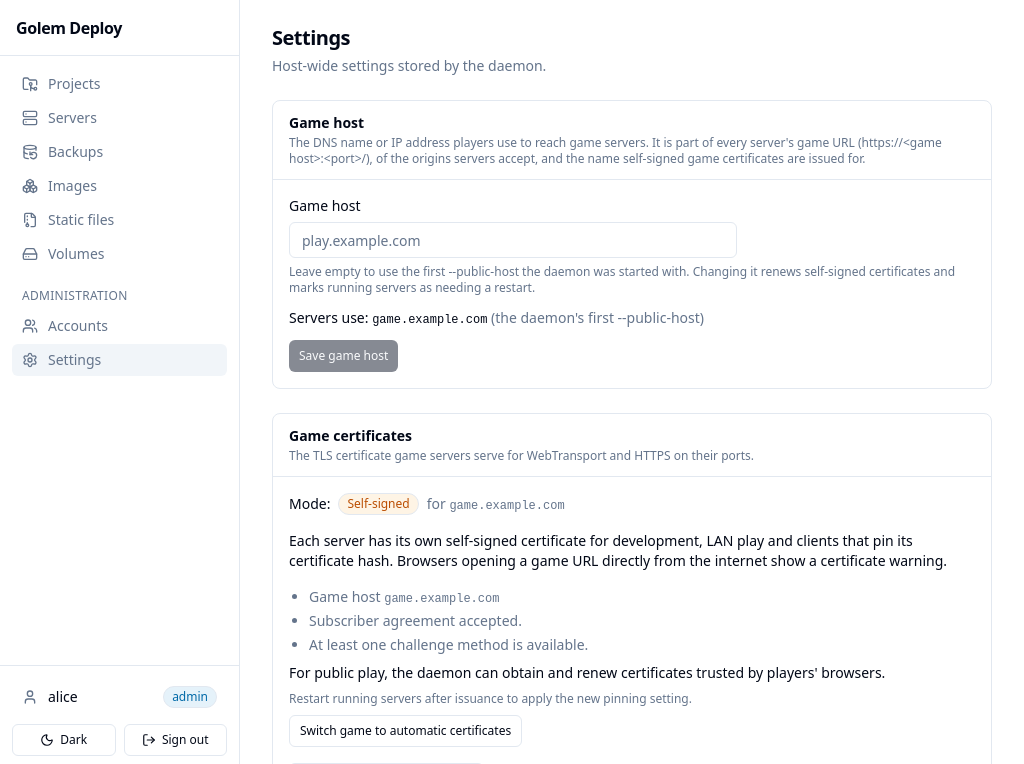
Test: automatic game certificates › follows the 202 response through success
Click the button "Switch game to automatic certificates".
click(406, 731)  # box 289,715 -> 522,747
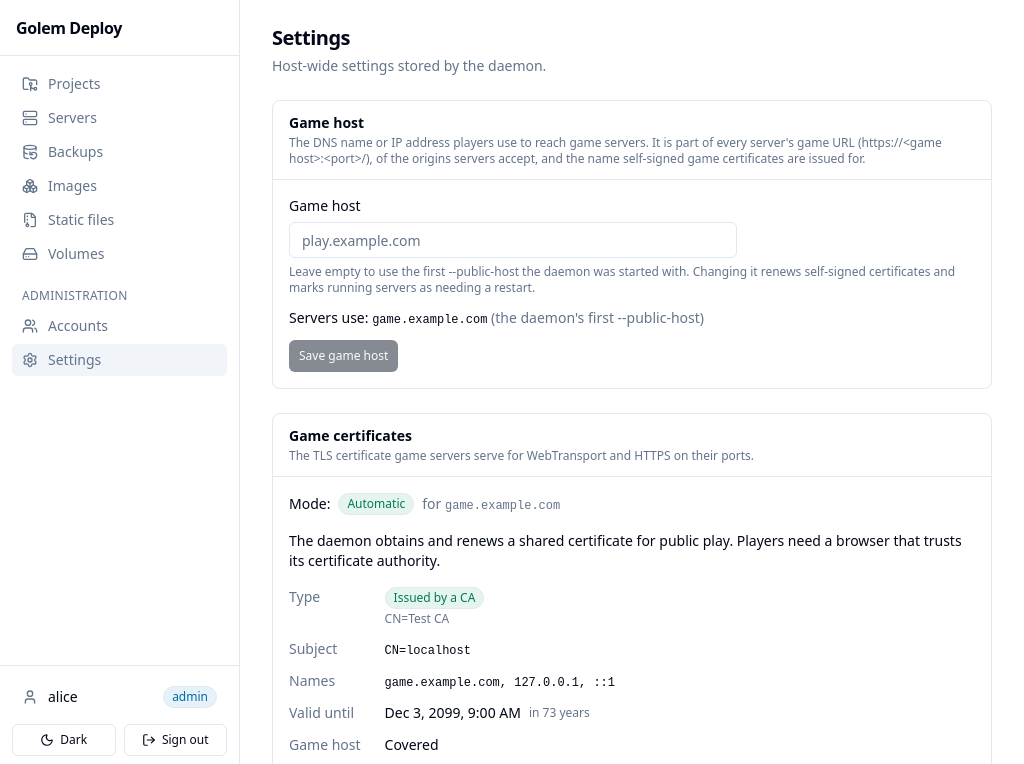
Expected: the text "Automatic" is shown, 338,493 -> 414,515
Expected: the text "CN=Test CA" is shown, 385,610 -> 449,627
